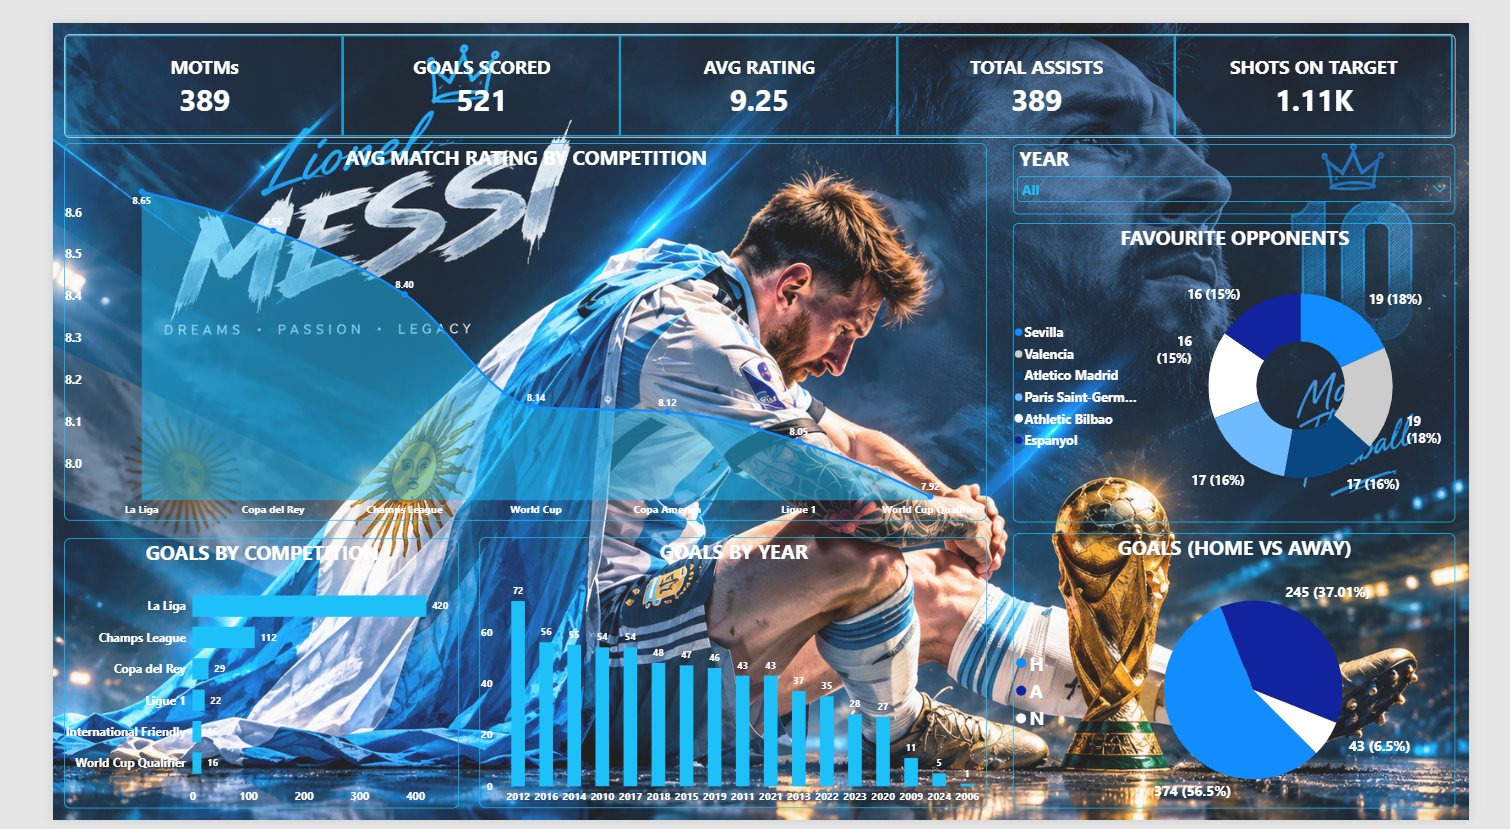

The page's visual inventory and layout, read from the dashboard file:
{"tool":"powerbi","page":{"name":"LIONEL MESSI DASHBOARD","canvas":[1920,1080],"ordinal":0},"visuals":[{"type":"cardVisual","fields":{"Data":["CountNonNull(leomessi_matches.MOTM)","Sum(leomessi_matches.Goals)","Avg(leomessi_matches.Match Rating)","CountNonNull(leomessi_matches.Assists)","Sum(leomessi_matches.Shots on Target)"]},"box":[14.8,14.8,1886.8,140.2],"z":0},{"type":"columnChart","title":"GOALS BY YEAR","fields":{"Category":["leomessi_matches.Year"],"Y":["Sum(leomessi_matches.Goals)"]},"box":[577.5,697.8,687.4,366.7],"z":1000},{"type":"barChart","title":"GOALS BY COMPETITION","fields":{"Category":["leomessi_matches.Competition"],"Y":["Sum(leomessi_matches.Goals)"]},"box":[14.8,698.1,535,366.6],"z":2000},{"type":"pieChart","title":"GOALS (HOME VS AWAY)","fields":{"Category":["leomessi_matches.Home/Away"],"Y":["Sum(leomessi_matches.Goals)"]},"box":[1301.9,691.4,599.7,373.3],"z":3000},{"type":"slicer","fields":{"Values":["leomessi_matches.Year"]},"box":[1302,164.8,599.8,95],"z":4000},{"type":"donutChart","title":"FAVOURITE OPPONENTS","fields":{"Category":["leomessi_matches.Away Team","leomessi_matches.Home Team"],"Y":["Sum(leomessi_matches.Goals)"]},"box":[1302,271.7,599.8,405.3],"z":5000},{"type":"areaChart","title":"AVG MATCH RATING BY COMPETITION","fields":{"Category":["leomessi_matches.Competition"],"Y":["Avg(leomessi_matches.Match Rating)"]},"box":[14.8,163.1,1250.7,512.1],"z":6000}]}

Visuals, with their boxes in screenshot pixels (x1, y1, x2, y2), scaled from the page's 1920x1080 canvas onto the 1510x829 screenshot:
cardVisual - CountNonNull(leomessi_matches.MOTM) x Sum(leomessi_matches.Goals): [left=12, top=11, right=1496, bottom=119]
"GOALS BY YEAR" columnChart: [left=454, top=536, right=995, bottom=817]
"GOALS BY COMPETITION" barChart: [left=12, top=536, right=432, bottom=817]
"GOALS (HOME VS AWAY)" pieChart: [left=1024, top=531, right=1496, bottom=817]
slicer - leomessi_matches.Year: [left=1024, top=126, right=1496, bottom=199]
"FAVOURITE OPPONENTS" donutChart: [left=1024, top=209, right=1496, bottom=520]
"AVG MATCH RATING BY COMPETITION" areaChart: [left=12, top=125, right=995, bottom=518]
